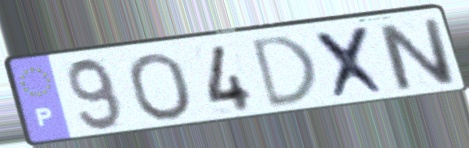4: (203, 42, 256, 114)
9: (67, 56, 127, 135)
D: (249, 32, 322, 112)
N: (372, 15, 461, 94)
O: (124, 50, 197, 123)
X: (310, 23, 394, 103)
